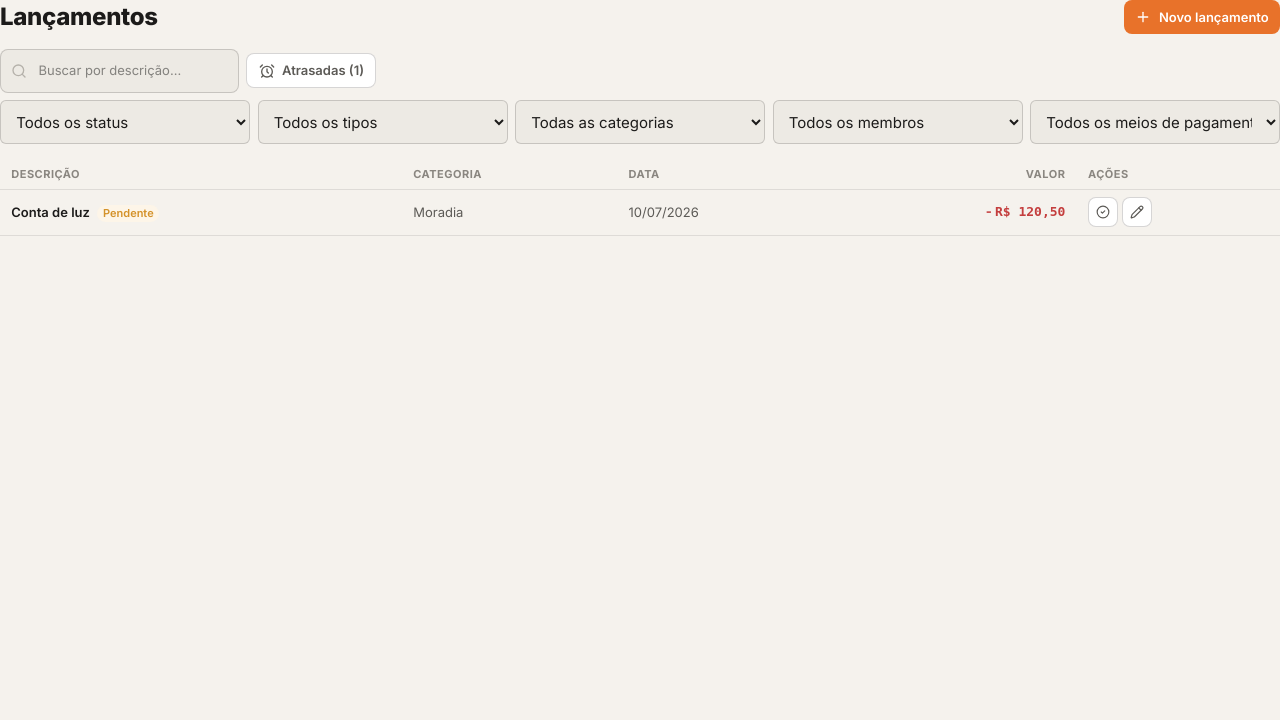
Test: FinanceEntriesPage › keeps the modal open when creating fails
Step 1. Click the button "Novo lançamento" → (1202, 17), box [1124, 0, 1279, 34]
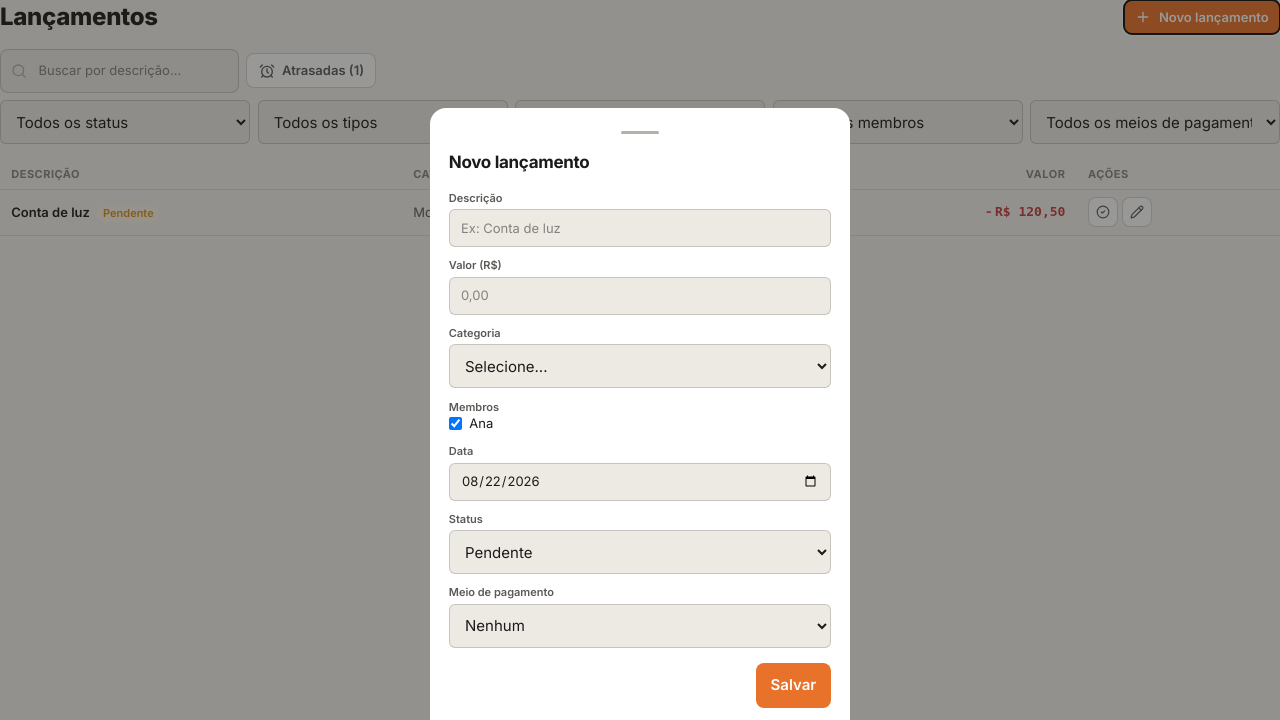
Step 2. Click the button "Salvar" → (793, 685), box [756, 663, 831, 708]
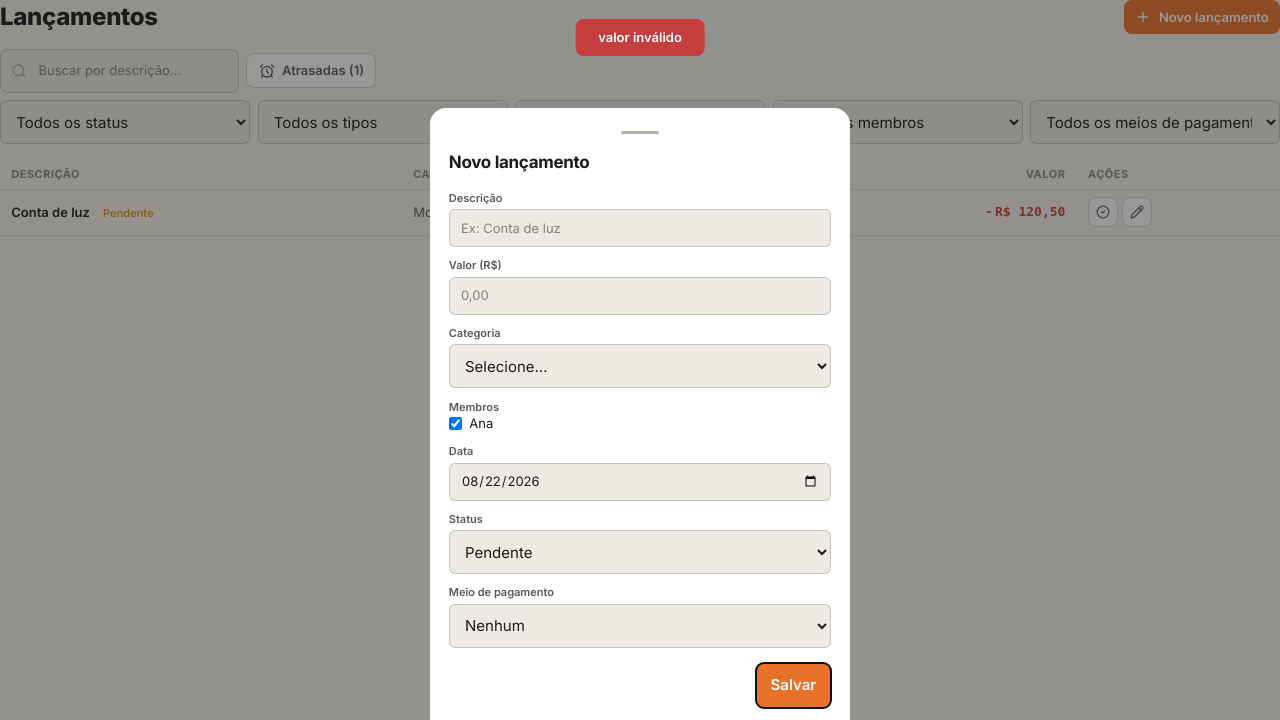
Expected: the dialog is shown, [430, 108, 850, 719]
Expected: the message reads "valor inválido", [598, 29, 682, 45]
